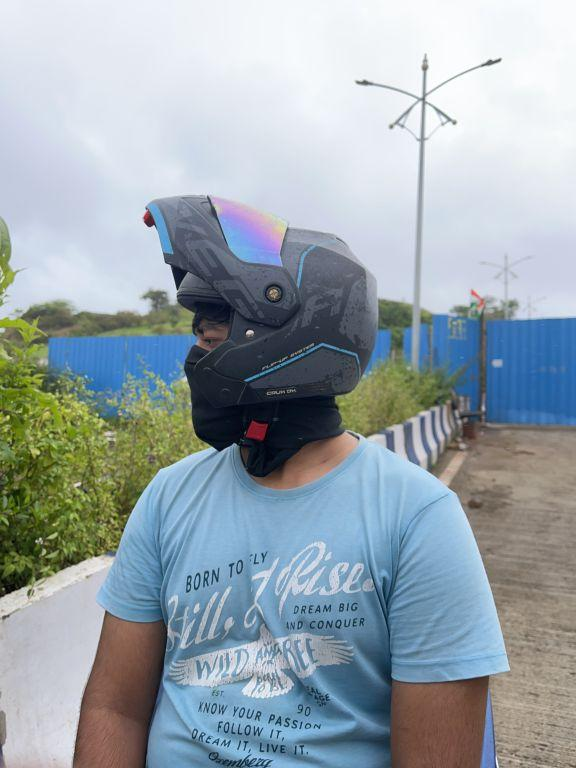helmet: (125, 187, 385, 461)
